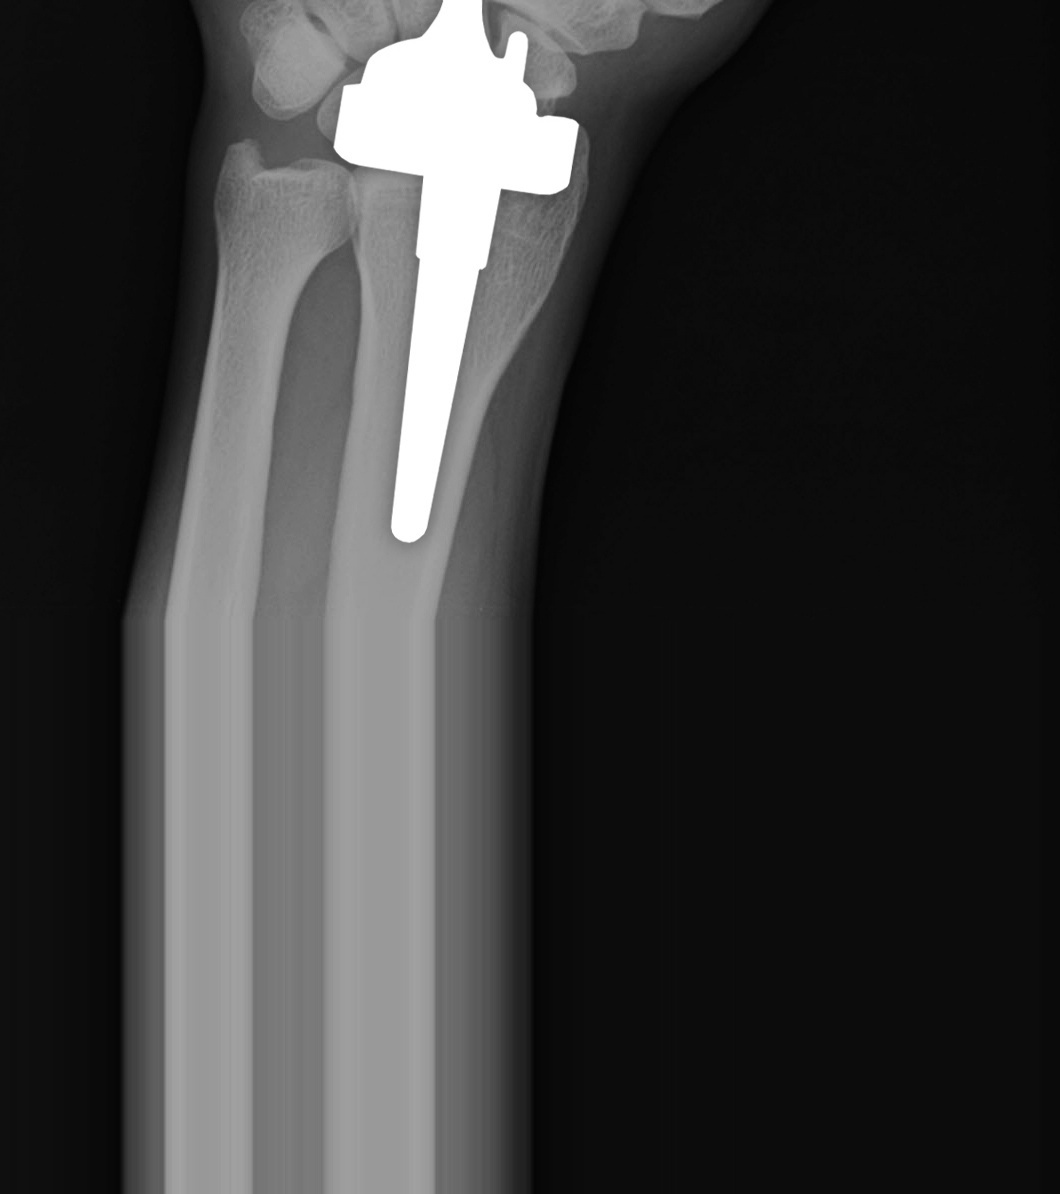Wrist-Biax-DePuuy: (304, 1, 581, 558)
